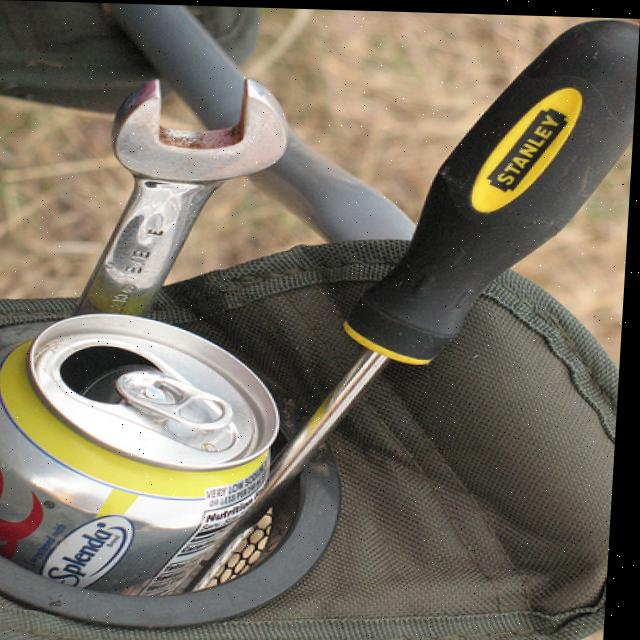Screwdriver: (275, 17, 634, 496)
